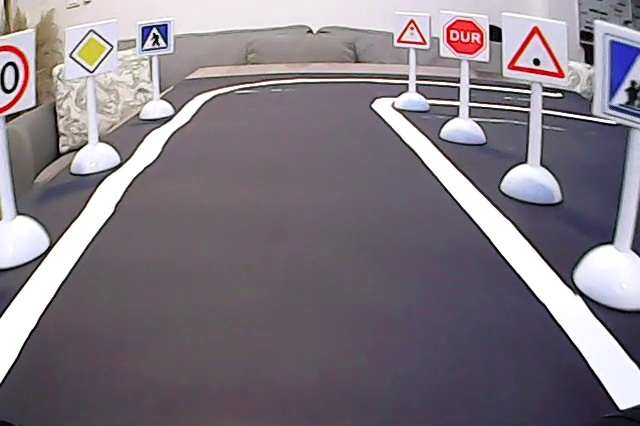green light: (502, 23, 568, 83)
pedestrian crossing: (138, 22, 173, 55)
red light: (392, 13, 429, 47)
stop sign: (441, 14, 489, 60)
